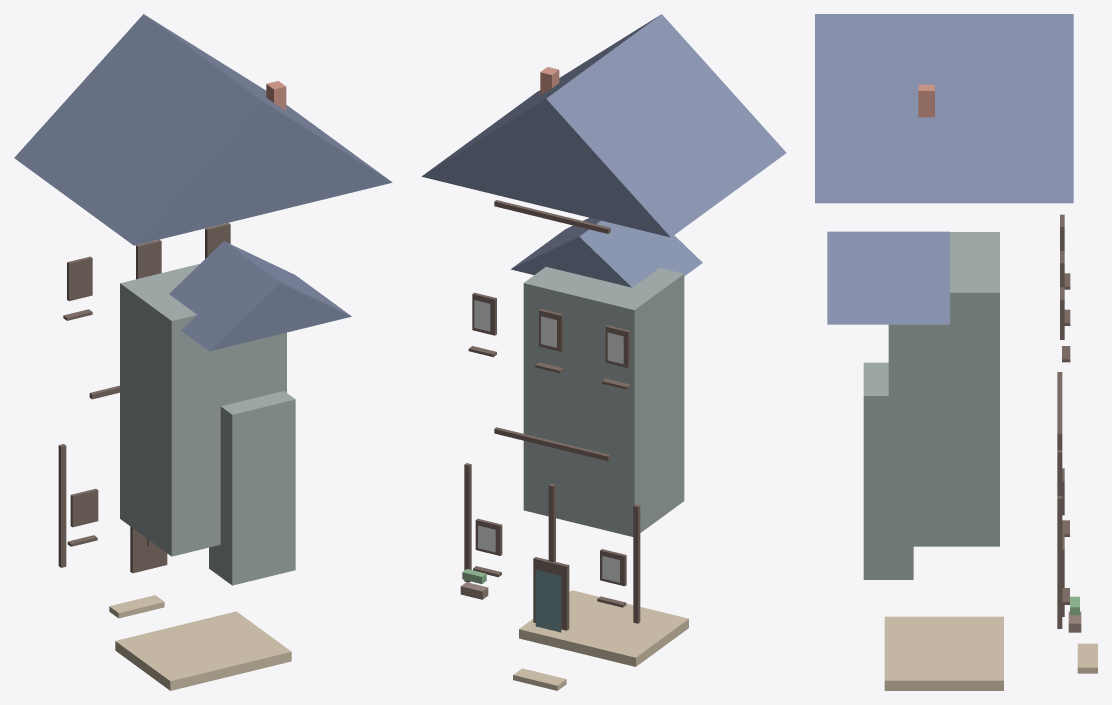
File: moonhill-skyhouse-01.glb
The picture shows the model from 3 angles, left to right: view 1: azimuth 30°, elevation 25°; view 2: azimuth 150°, elevation 25°; view 3: azimuth 270°, elevation 25°; orthographic projection. The views are drawn at different scales.
Visible parts, largest first — view 1: roof, body, wing, wing_roof, plinth, door_frame, up_-0.85, uwf_1_-0.67, wf_-0.63, uwf_1_0.00, step, uwf_1_0.67; view 2: roof, body, wing_roof, plinth, door, door_frame, up_-0.85, beam_2, beam_1, up_0.85, step, up_0.00 (+2 smaller); view 3: roof, body, wing_roof, plinth, wing, up_0.85, step, chimney.
Boxes of the visible parts, x1=… form: roof: x1=14, y1=14, x2=392, y2=245; body: x1=120, y1=264, x2=286, y2=556; wing: x1=209, y1=391, x2=295, y2=585; wing_roof: x1=169, y1=241, x2=351, y2=351; plinth: x1=115, y1=611, x2=291, y2=690; door_frame: x1=130, y1=526, x2=167, y2=573; up_-0.85: x1=58, y1=444, x2=66, y2=567; uwf_1_-0.67: x1=67, y1=256, x2=92, y2=301; wf_-0.63: x1=70, y1=488, x2=98, y2=527; uwf_1_0.00: x1=136, y1=239, x2=161, y2=279; step: x1=109, y1=595, x2=164, y2=618; uwf_1_0.67: x1=205, y1=223, x2=230, y2=258; roof: x1=422, y1=14, x2=786, y2=237; body: x1=523, y1=266, x2=684, y2=536; wing_roof: x1=511, y1=217, x2=702, y2=287; plinth: x1=519, y1=590, x2=688, y2=666; door: x1=535, y1=569, x2=561, y2=632; door_frame: x1=533, y1=557, x2=569, y2=630; up_-0.85: x1=633, y1=504, x2=640, y2=623; beam_2: x1=494, y1=200, x2=610, y2=233; beam_1: x1=494, y1=427, x2=610, y2=461; up_0.85: x1=464, y1=463, x2=471, y2=582; step: x1=513, y1=668, x2=566, y2=690; up_0.00: x1=548, y1=483, x2=555, y2=562; roof: x1=815, y1=14, x2=1073, y2=203; body: x1=888, y1=232, x2=999, y2=546; wing_roof: x1=827, y1=231, x2=949, y2=324; plinth: x1=884, y1=616, x2=1003, y2=690; wing: x1=863, y1=362, x2=913, y2=579; up_0.85: x1=1057, y1=496, x2=1062, y2=628; step: x1=1077, y1=643, x2=1097, y2=673; chimney: x1=918, y1=84, x2=934, y2=117.
Bounding box in the file's own units: 2.53 × 5.61 × 2.22.
